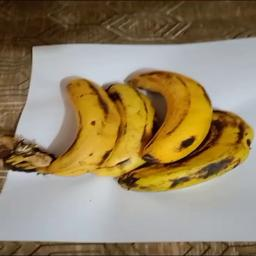Banana Semifresh: (33, 72, 251, 194)
